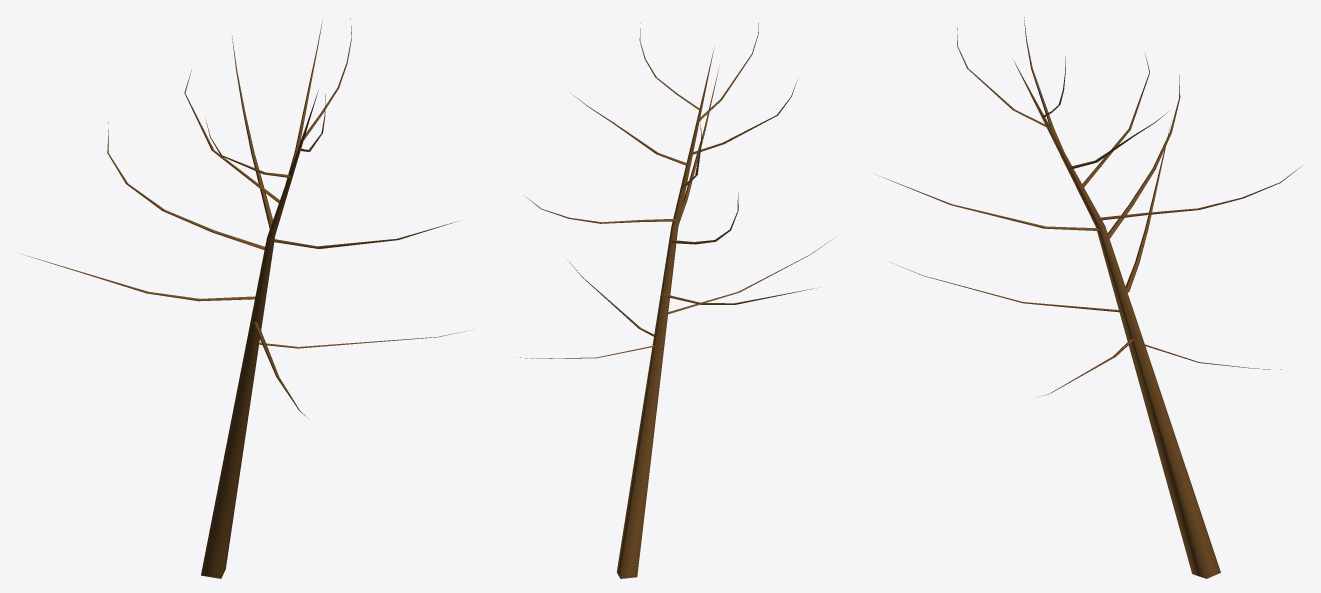
File: tree big.fbx
3 views of the same model, side by side, from view 1: azimuth 30°, elevation 25°; view 2: azimuth 150°, elevation 25°; view 3: azimuth 270°, elevation 25° (orthographic). The views are drawn at different scales.
Parts seen in each view (by area): view 1: tree.000; view 2: tree.000; view 3: tree.000.
Boxes of the visible parts, box(x1,y1,x2,y2) form: tree.000: box(22, 18, 472, 578); tree.000: box(520, 23, 835, 578); tree.000: box(877, 17, 1301, 578).
Bounding box in the file's own units: 1111 × 1627 × 1171.
